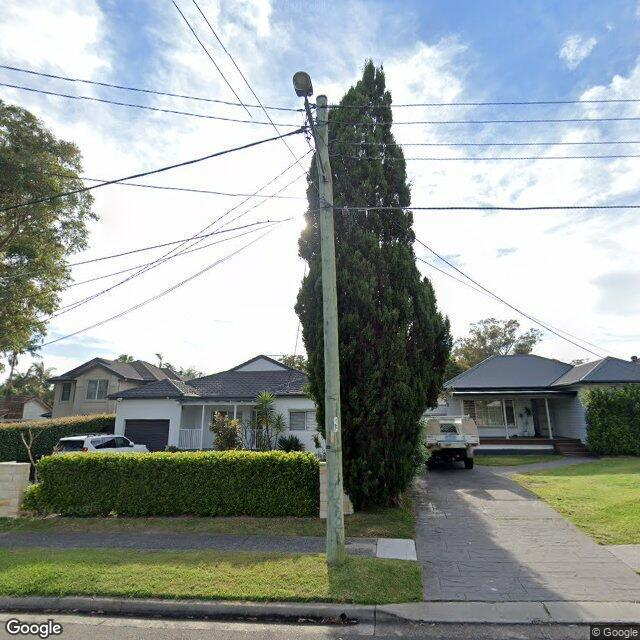streetlight: (292, 68, 328, 184)
timber-pole: (314, 94, 346, 568)
